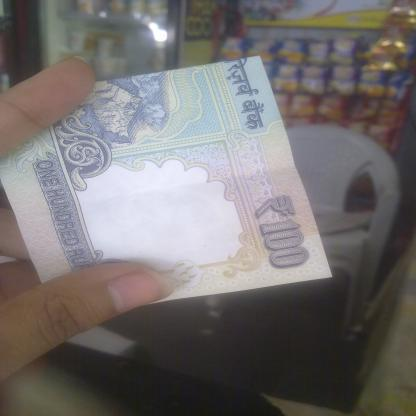Old100Back: (0, 54, 338, 306)
